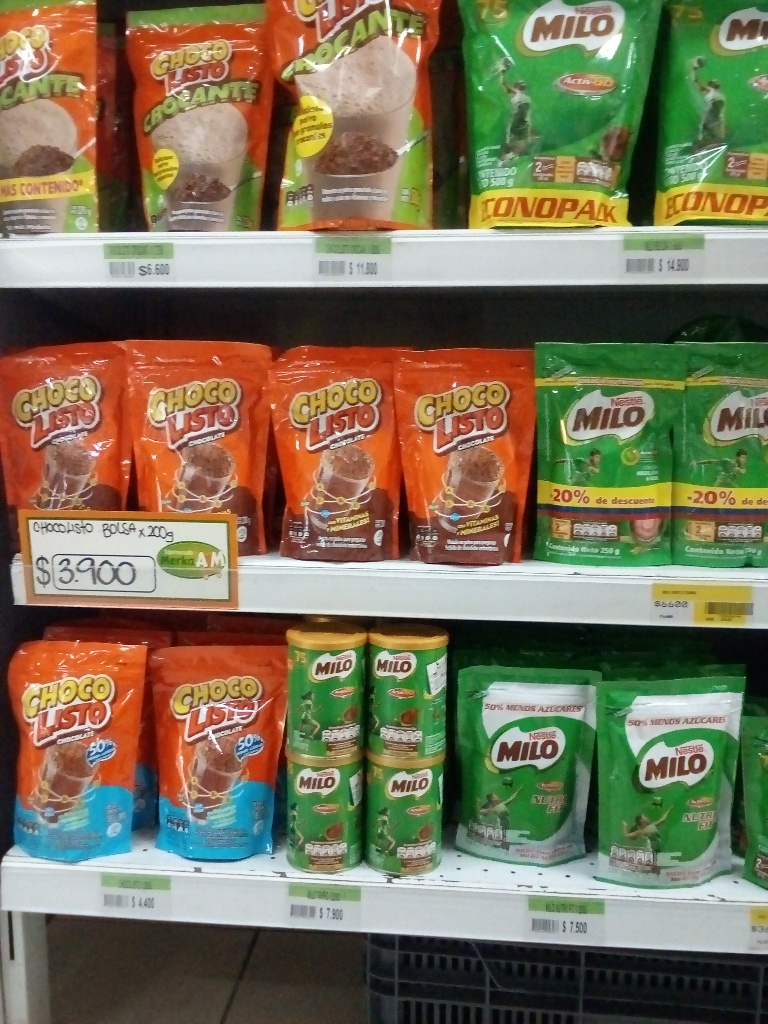COL0170102DYP25000: (118, 0, 268, 231)
COL0170102DYP50000: (269, 0, 443, 232)
COL0170103DYP20000: (393, 345, 542, 567)
COL0170104DYP20000: (148, 641, 285, 866)
COL0170203DYP25000: (673, 339, 767, 568)
COL0170203DYP50000: (457, 0, 652, 226)
COL0170203LAT20000: (364, 750, 445, 879)
COL0170205DYP20000: (596, 671, 747, 888)
